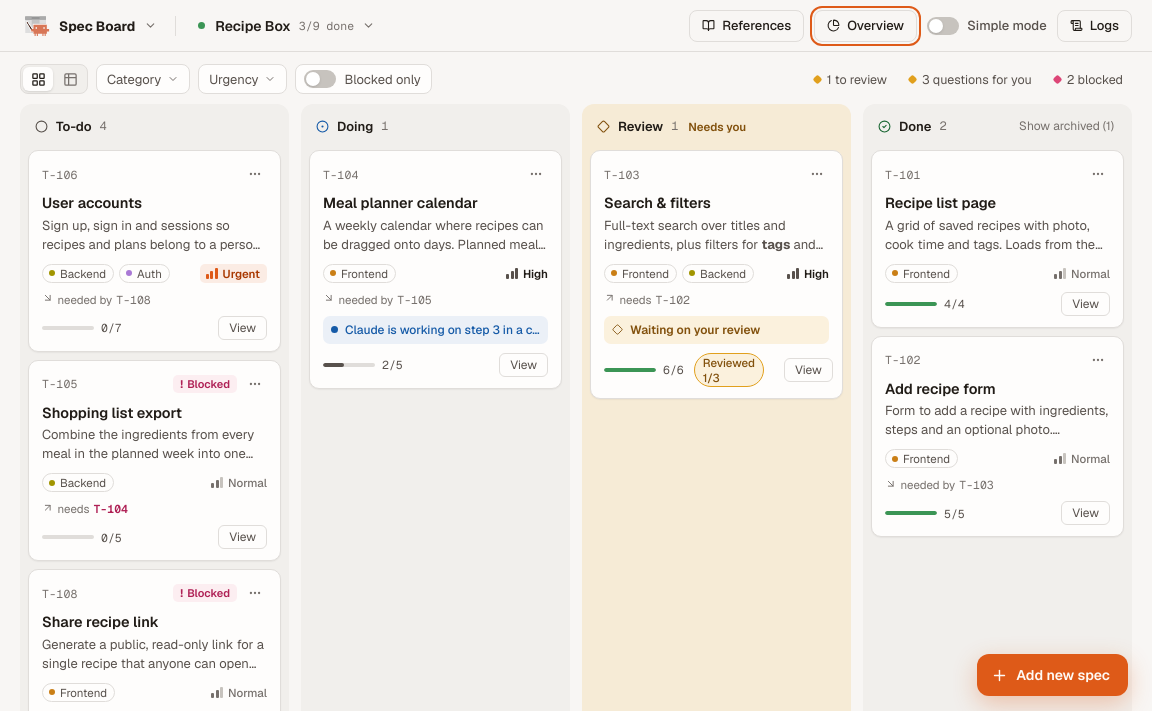
App › Logs opened from the Overview returns focus to the header Logs button on close
Click the button "Overview".
click(866, 26)  # box [814,10,917,42]
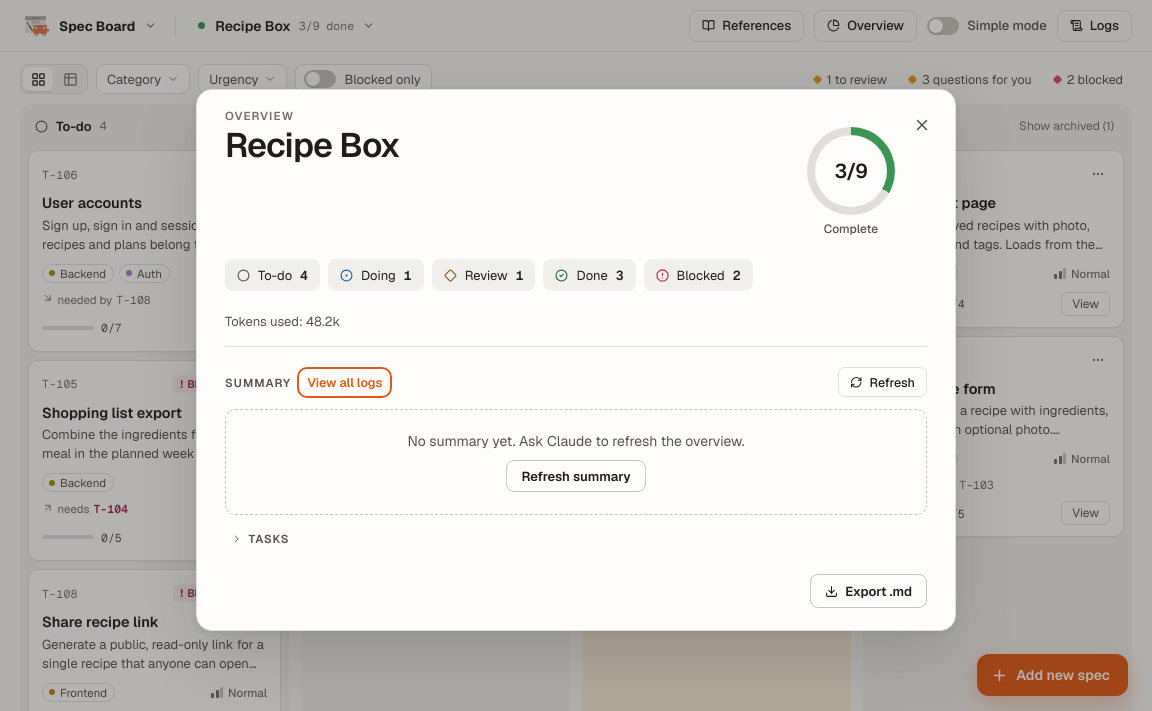
Click the button "View all logs".
click(345, 382)  # box [301,370,388,394]
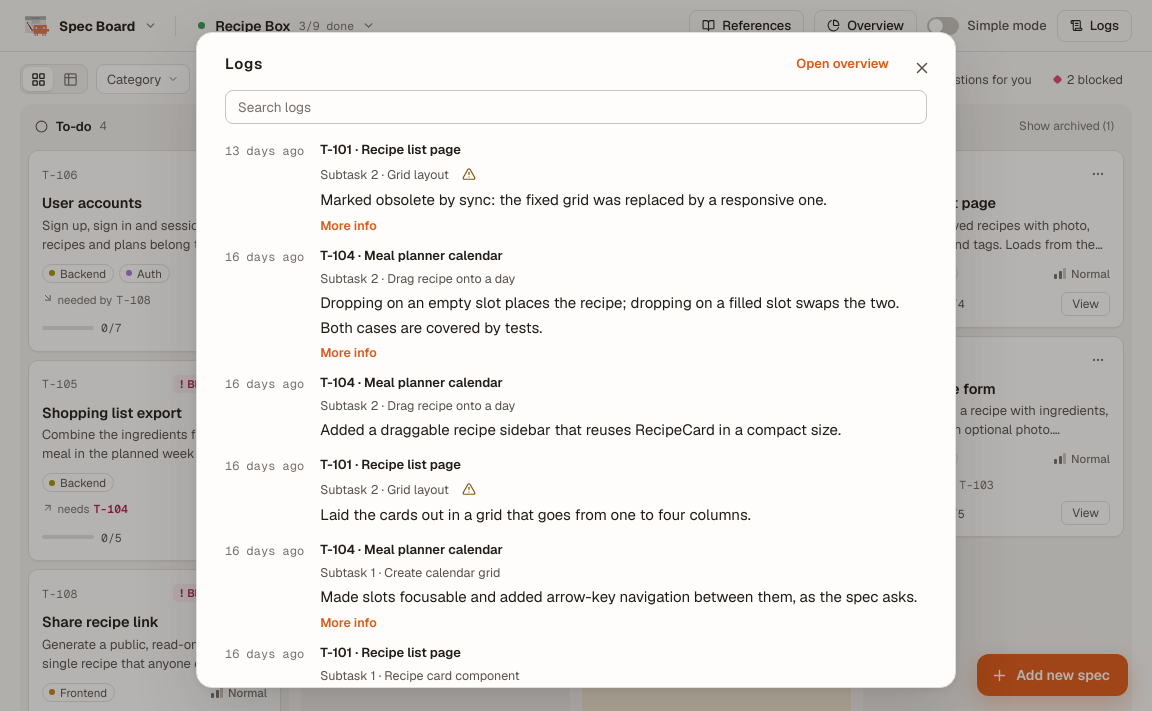
Expected: the dialog "Logs" is shown
Press Escape in the dialog "Logs"
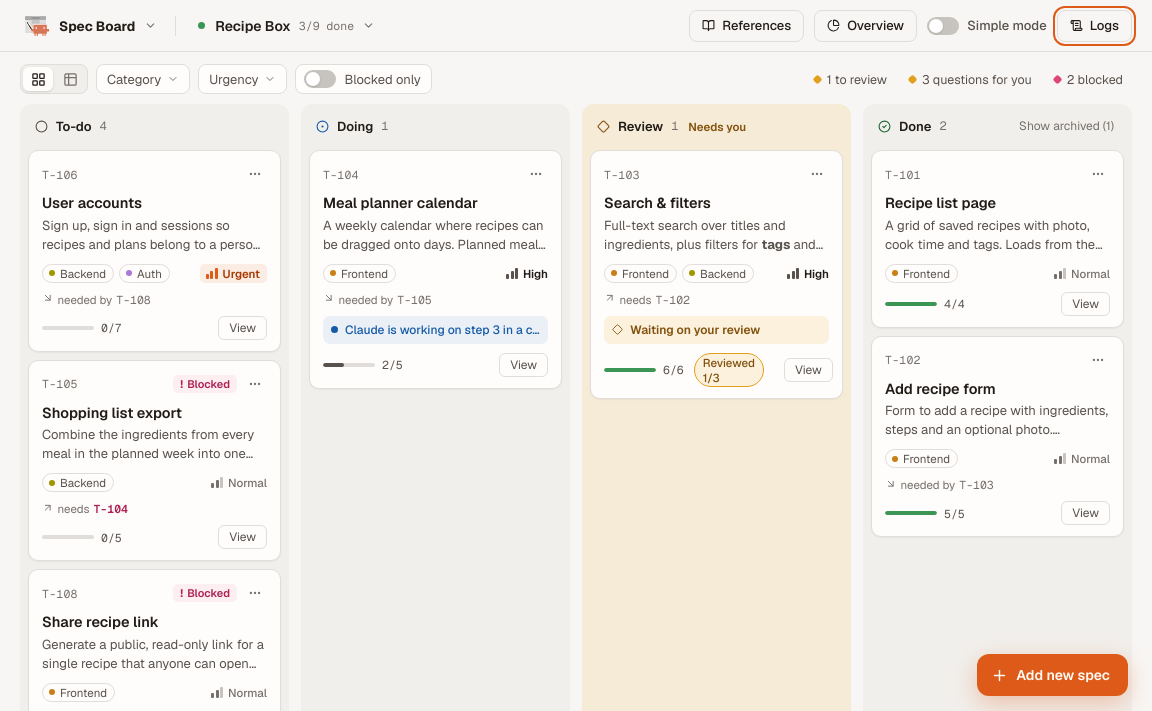
Expected: the dialog is gone
